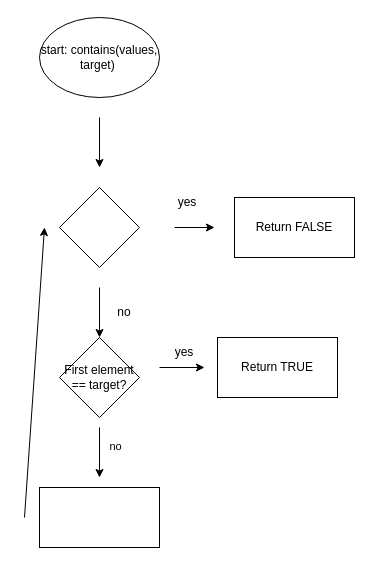
Some shapes in this 372 by 565 pixel diagram are drawn without their labels. The centre of each missing label's shape, as x and y in pixels:
"is slice empty?" belongs at (x=99, y=227).
"Recursive Call; contains(&values|1..|)" belongs at (x=99, y=517).
